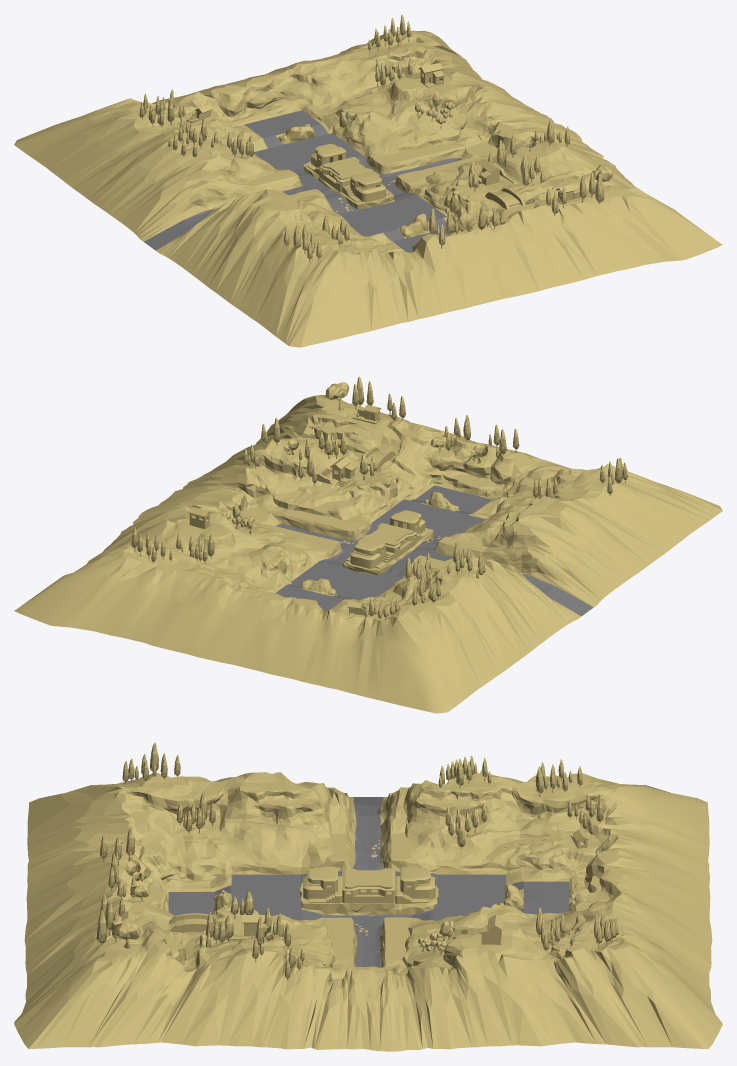
Rendered from Enviro_Level_5.fbx.
The picture shows the model from 3 angles, top to bottom: view 1: azimuth 30°, elevation 25°; view 2: azimuth 150°, elevation 25°; view 3: azimuth 270°, elevation 25°; orthographic projection. The views are drawn at different scales.
Visible parts, largest first — view 1: Level05_Enviro07, Level05_Enviro09, Level05_Enviro05, Level05_Enviro02, Level05_Enviro01, Level05_Enviro10, Level05_Enviro08, Level05_Enviro04, Level05_Enviro06, Level05_Enviro03, Level05_Enviro00, Level05_Road06 (+5 smaller); view 2: Level05_Enviro02, Level05_Enviro04, Level05_Enviro10, Level05_Enviro06, Level05_Enviro07, Level05_Enviro05, Level05_Enviro09, Level05_Enviro01, Level05_Enviro08, Level05_Enviro03, Level05_Enviro00, Level05_Road02 (+5 smaller); view 3: Level05_Enviro04, Level05_Enviro09, Level05_Enviro05, Level05_Enviro10, Level05_Enviro02, Level05_Enviro07, Level05_Enviro06, Level05_Enviro01, Level05_Enviro08, Level05_Enviro00, Level05_Enviro03, Level05_Road02 (+6 smaller).
Part boxes in pixels (left/top/right/bottom): Level05_Enviro07: left=215, top=213, right=456, bottom=347; Level05_Enviro09: left=459, top=164, right=722, bottom=285; Level05_Enviro05: left=317, top=63, right=586, bottom=173; Level05_Enviro02: left=14, top=86, right=267, bottom=203; Level05_Enviro01: left=95, top=118, right=301, bottom=241; Level05_Enviro10: left=388, top=118, right=633, bottom=228; Level05_Enviro08: left=398, top=204, right=560, bottom=310; Level05_Enviro04: left=276, top=14, right=510, bottom=120; Level05_Enviro06: left=156, top=189, right=359, bottom=292; Level05_Enviro03: left=215, top=70, right=315, bottom=144; Level05_Enviro00: left=303, top=144, right=394, bottom=210; Level05_Road06: left=335, top=196, right=446, bottom=236; Level05_Enviro02: left=248, top=570, right=528, bottom=713; Level05_Enviro04: left=14, top=527, right=281, bottom=653; Level05_Enviro10: left=162, top=418, right=419, bottom=543; Level05_Enviro06: left=434, top=496, right=648, bottom=607; Level05_Enviro07: left=468, top=456, right=722, bottom=564; Level05_Enviro05: left=103, top=491, right=341, bottom=588; Level05_Enviro09: left=255, top=376, right=440, bottom=495; Level05_Enviro01: left=382, top=540, right=581, bottom=652; Level05_Enviro08: left=405, top=415, right=537, bottom=511; Level05_Enviro03: left=186, top=578, right=337, bottom=668; Level05_Enviro00: left=342, top=510, right=442, bottom=575; Level05_Road02: left=291, top=562, right=396, bottom=600; Level05_Enviro04: left=519, top=891, right=722, bottom=1048; Level05_Enviro09: left=14, top=894, right=217, bottom=1048; Level05_Enviro05: left=354, top=903, right=533, bottom=1051; Level05_Enviro10: left=193, top=891, right=368, bottom=1049; Level05_Enviro02: left=493, top=759, right=710, bottom=911; Level05_Enviro07: left=27, top=742, right=233, bottom=892; Level05_Enviro06: left=222, top=772, right=356, bottom=875; Level05_Enviro01: left=371, top=756, right=507, bottom=874; Level05_Enviro08: left=24, top=826, right=231, bottom=953; Level05_Enviro00: left=300, top=866, right=438, bottom=915; Level05_Enviro03: left=504, top=853, right=712, bottom=947; Level05_Road02: left=437, top=874, right=506, bottom=920.
Size of the model in its own units: 10524 by 1787 by 12382.
